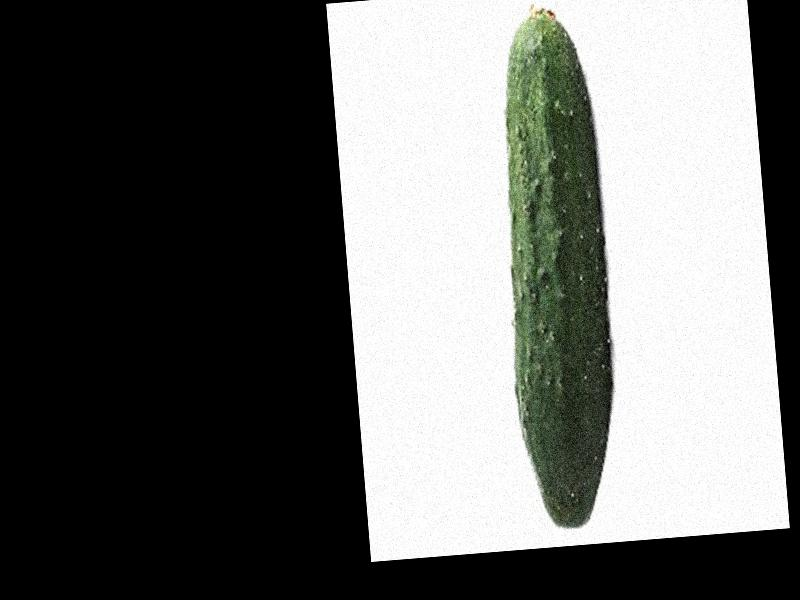Cucumber: (486, 3, 626, 532)
